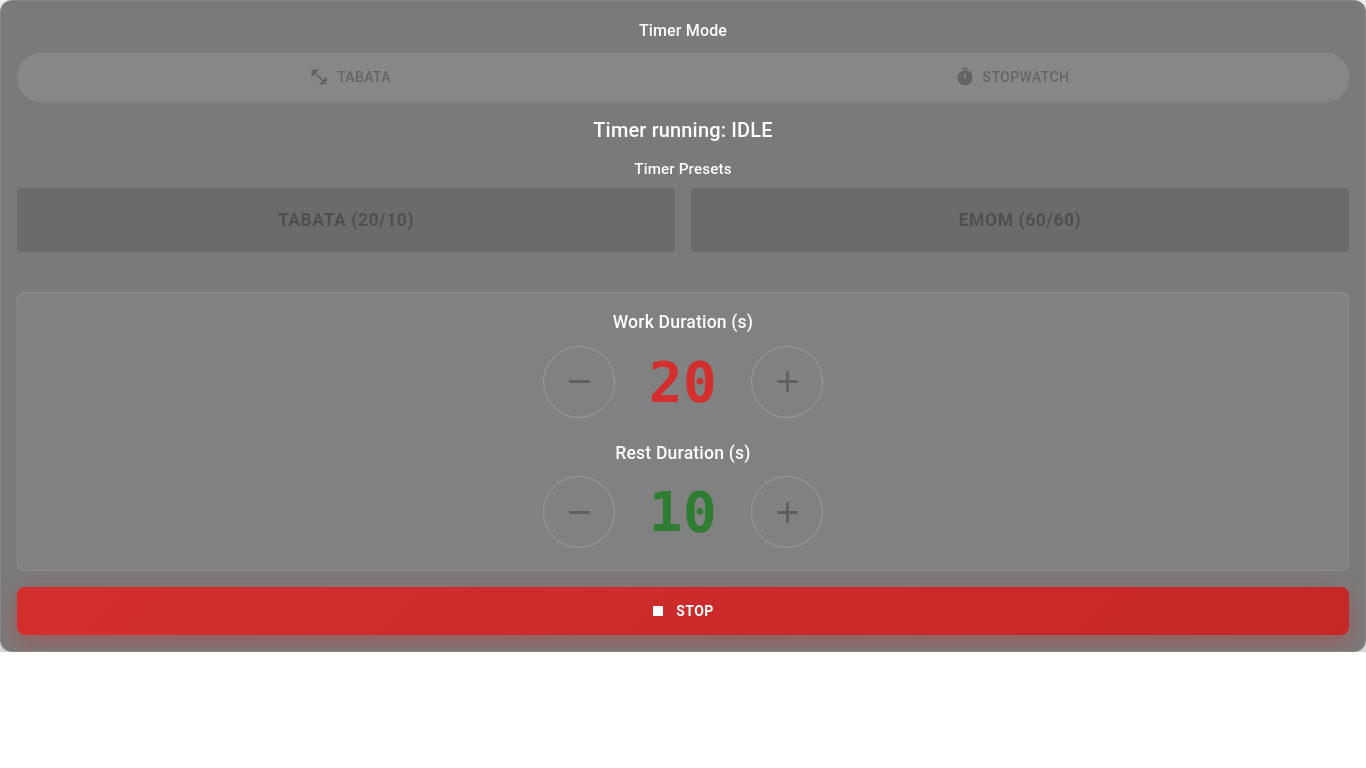
Test: TimerControls › optimistically updates UI to "stopped" when stop is clicked and dispatches Spotify PAUSE
The image size is (1366, 768).
Click the button with test id "stop-timer-button" at (683, 611), box [17,587,1349,635]
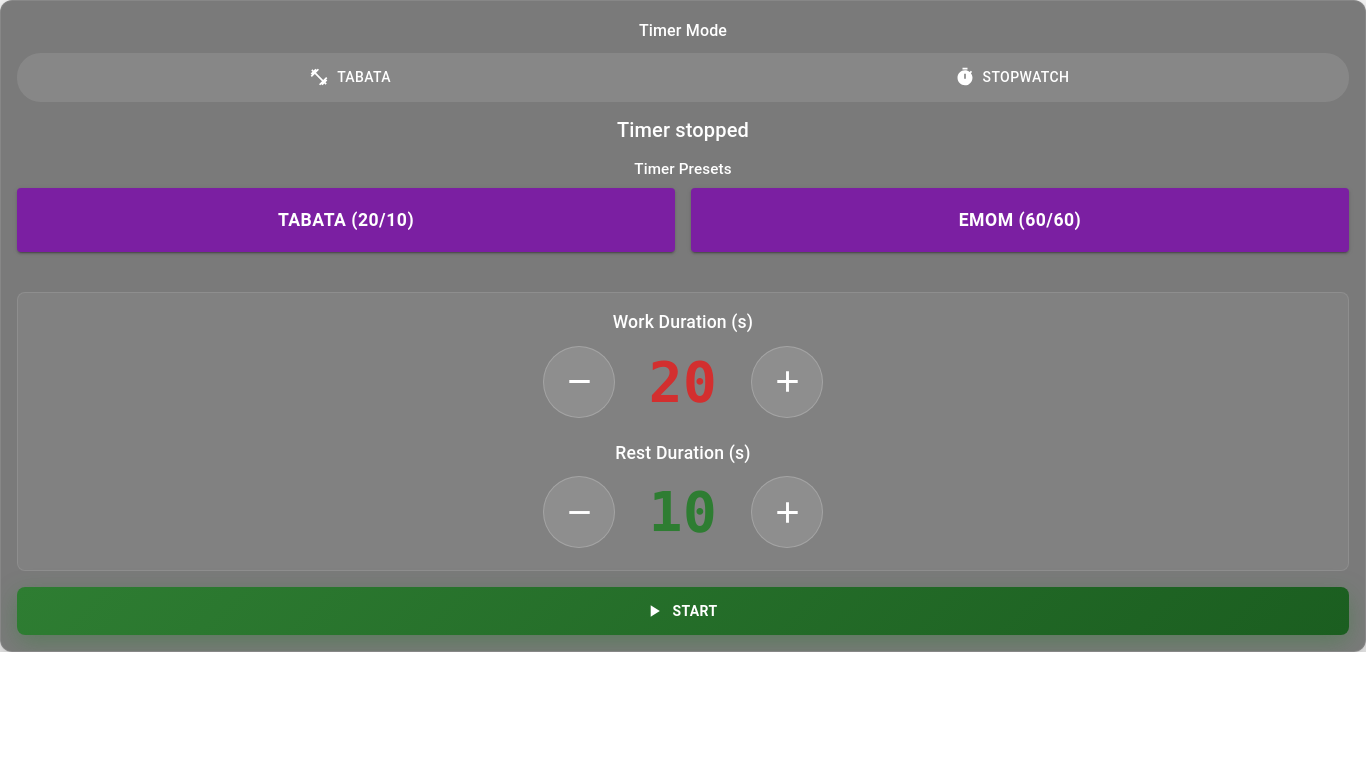
Expected: the heading "Timer stopped" is shown, [617,118,749,142]
